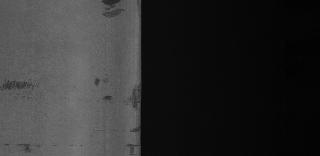oil spot: (0, 79, 46, 97), (90, 76, 116, 106), (2, 140, 44, 156), (99, 0, 128, 20), (124, 80, 140, 110), (124, 140, 138, 156), (127, 122, 141, 134)
